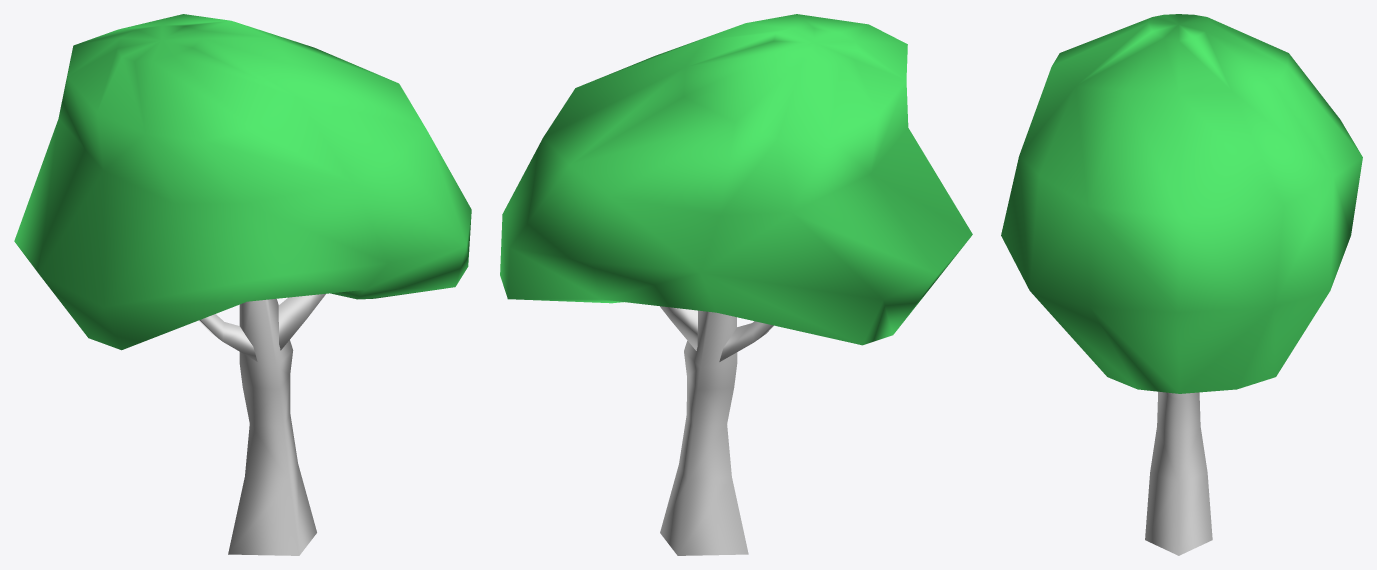
File: Oak_C_3.fbx
The picture shows the model from 3 angles, left to right: view 1: azimuth 30°, elevation 25°; view 2: azimuth 150°, elevation 25°; view 3: azimuth 270°, elevation 25°; orthographic projection. The views are drawn at different scales.
Visible parts, largest first — view 1: Oak_C_3; view 2: Oak_C_3; view 3: Oak_C_3.
Part boxes in pixels (box(x1,y1,x2,y2)): Oak_C_3: box(14, 14, 471, 555); Oak_C_3: box(500, 14, 972, 555); Oak_C_3: box(1001, 14, 1362, 555).
Size of the model in its own units: 7.86 by 9.55 by 6.74.
